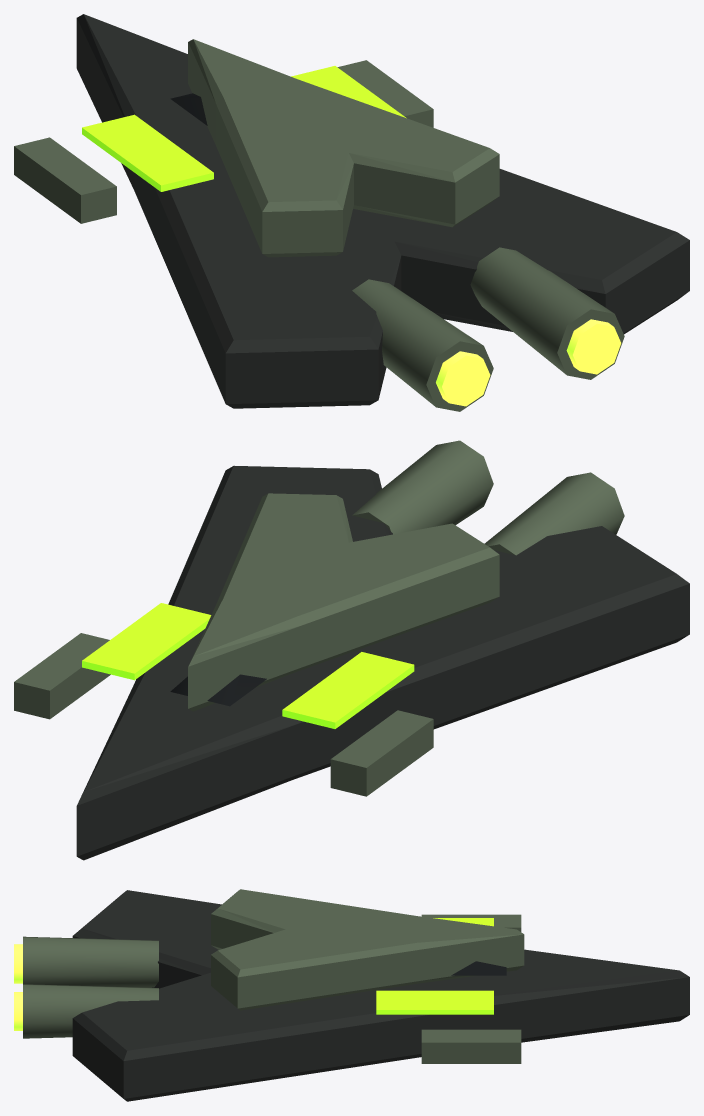
The model's file is Fighter.glb.
3 renders of one model, top to bottom at view 1: azimuth 30°, elevation 25°; view 2: azimuth 150°, elevation 25°; view 3: azimuth 270°, elevation 25°, orthographic. The views are drawn at different scales.
Visible parts, largest first — view 1: fighter_hull, fighter_spine, fighter_engine_nacelle (×2), fighter_pod (×2), fighter_flash (×2), fighter_engine_bell (×2); view 2: fighter_hull, fighter_spine, fighter_engine_nacelle (×2), fighter_flash (×2), fighter_pod (×2), fighter_canopy; view 3: fighter_hull, fighter_spine, fighter_engine_nacelle (×2), fighter_pod (×2), fighter_flash, fighter_engine_bell (×2), fighter_canopy.
Part boxes in pixels (x1,y1,x2,y2): fighter_hull: [76, 14, 689, 408]; fighter_spine: [188, 39, 499, 257]; fighter_engine_nacelle (×2): [352, 247, 624, 411]; fighter_pod (×2): [14, 60, 433, 223]; fighter_flash (×2): [82, 66, 406, 191]; fighter_engine_bell (×2): [436, 319, 621, 406]; fighter_hull: [76, 465, 689, 860]; fighter_spine: [188, 493, 499, 711]; fighter_engine_nacelle (×2): [352, 440, 624, 555]; fighter_flash (×2): [82, 603, 414, 728]; fighter_pod (×2): [14, 633, 433, 796]; fighter_canopy: [170, 674, 266, 706]; fighter_hull: [72, 890, 689, 1101]; fighter_spine: [211, 889, 524, 1010]; fighter_engine_nacelle (×2): [23, 936, 158, 1038]; fighter_pod (×2): [421, 914, 521, 1063]; fighter_flash: [376, 990, 493, 1014]; fighter_engine_bell (×2): [14, 944, 22, 1030]; fighter_canopy: [451, 961, 506, 975].
Bounding box in the file's own units: 8.66 × 2.21 × 14.7.
